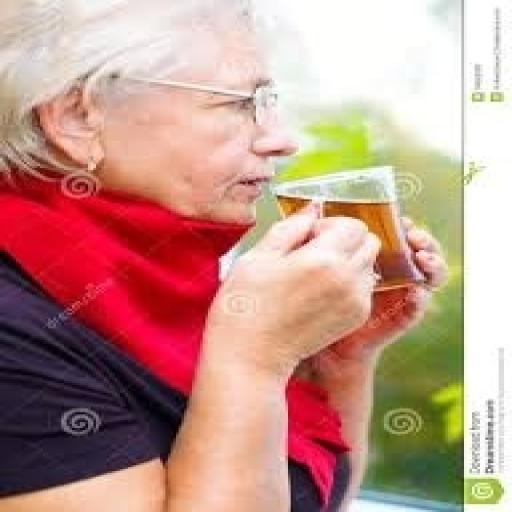drinking: (269, 164, 427, 293)
